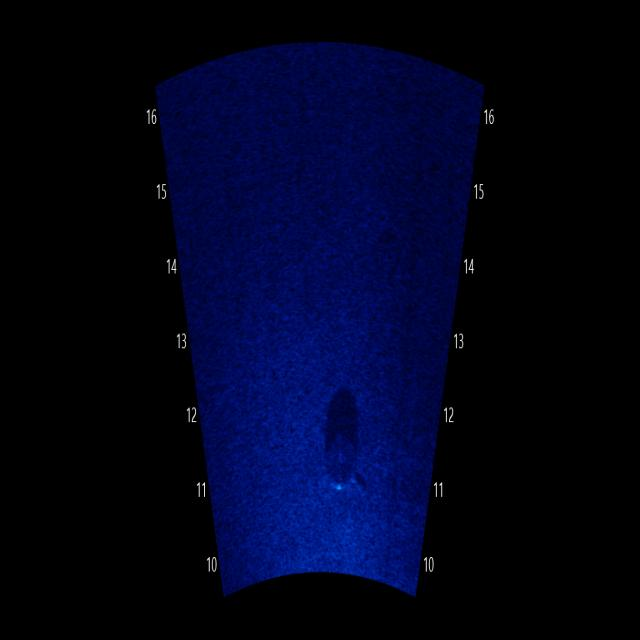circle: (320, 420, 363, 502)
